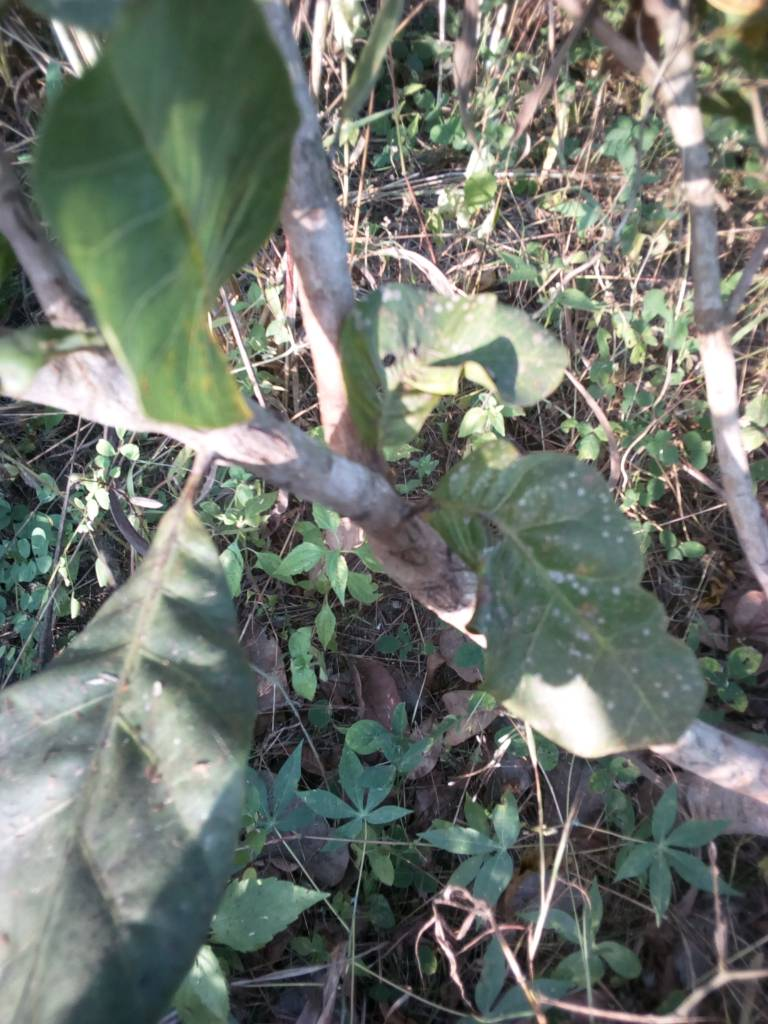Oïdium: (1, 489, 336, 1014), (422, 448, 722, 768)
